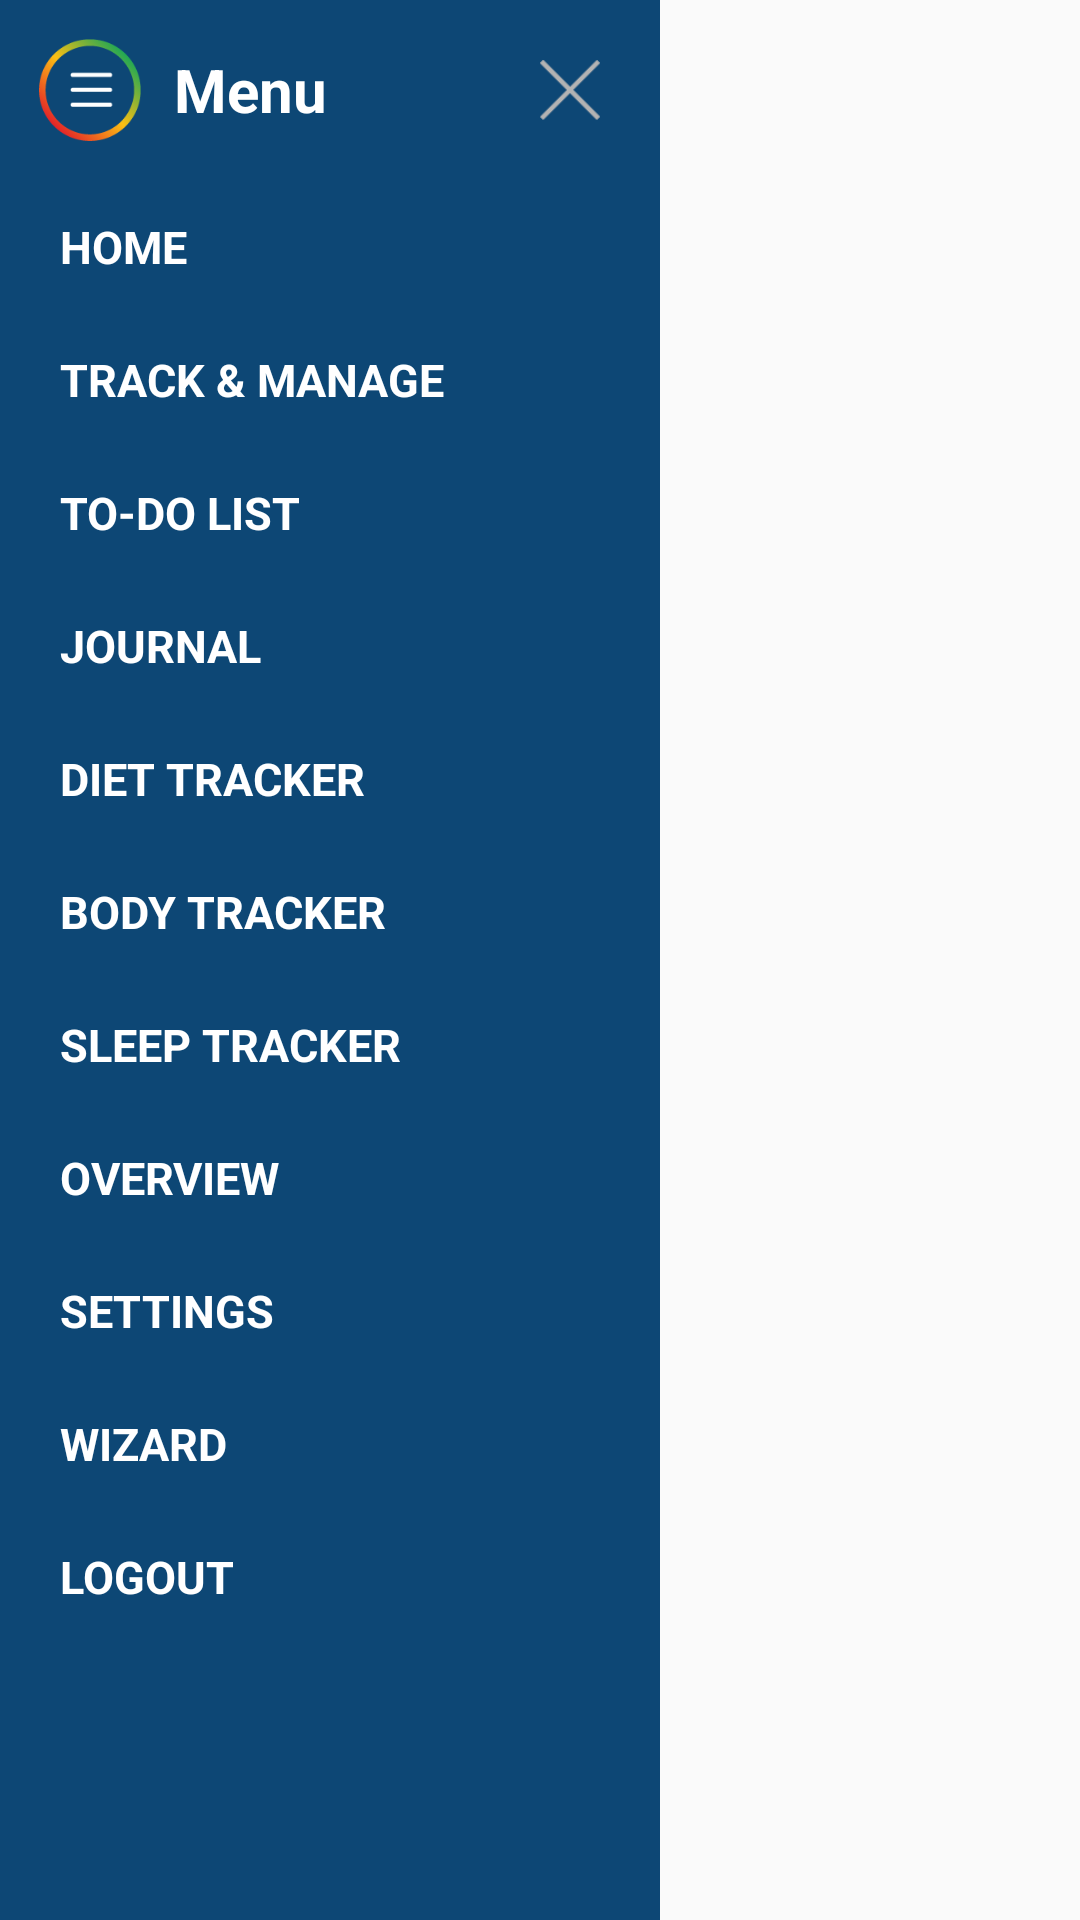

Icon click points for this 1080×1920 phone screenshot, format (x=x, y=y):
close: (x=570, y=90)
